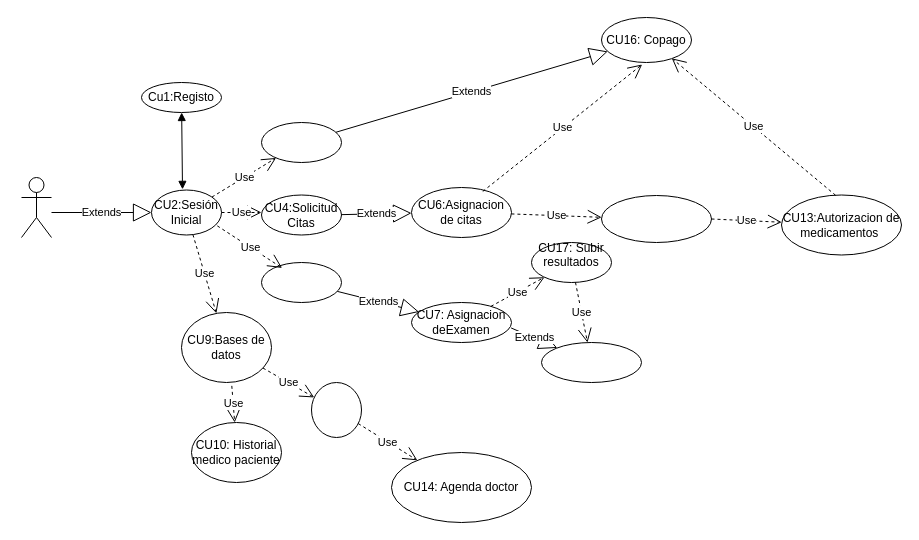
Some shapes in this 919 by 540 pixel diagram are drawn without their labels. The centre of each missing label's shape, as x and y in pixels:
ADMIN: point 36,207
CU11: Personal: point 336,410
CU12:Receta de medicamentos: point 656,218
CU3:Soliciud afiliación: point 301,142
CU5: Solicitud examenes: point 301,282
CU8: Lectura de resultados: point 591,362
